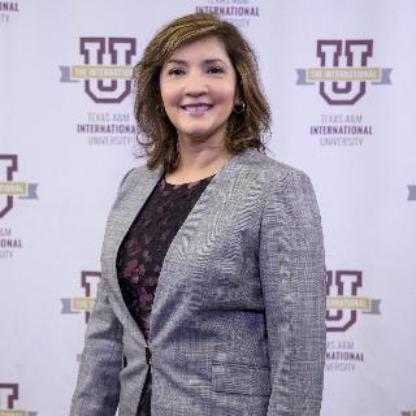person: (59, 8, 337, 416)
